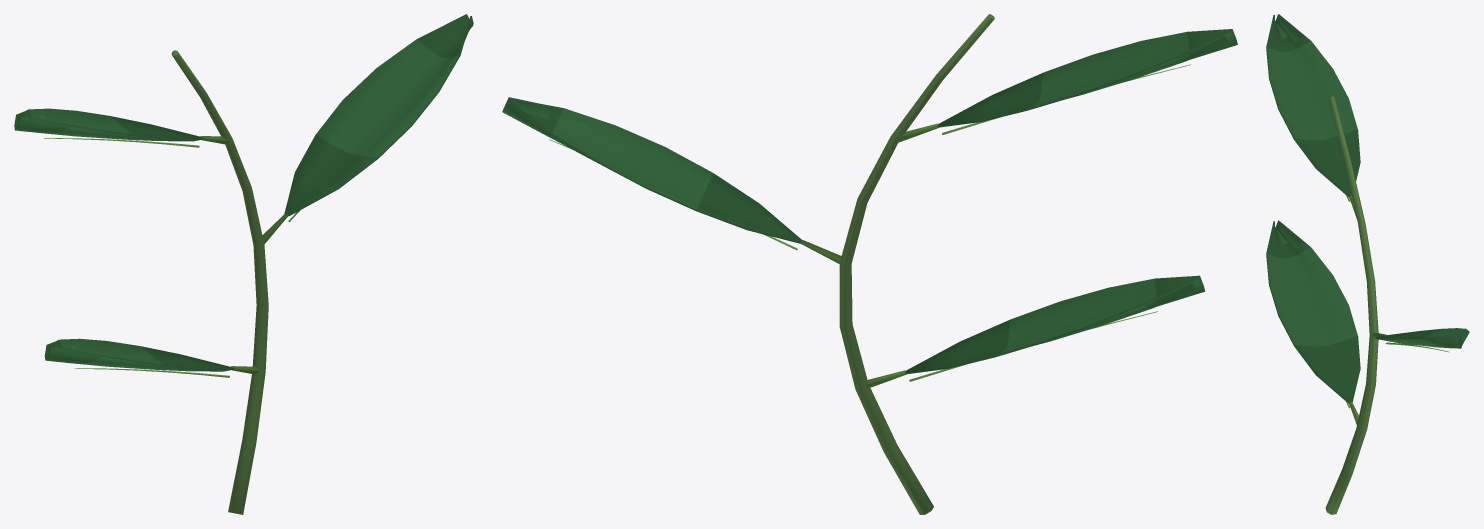
File: garden-tulip-bloom-stem-3.glb
3 renders of one model, left to right at view 1: azimuth 30°, elevation 25°; view 2: azimuth 150°, elevation 25°; view 3: azimuth 270°, elevation 25°, orthographic. The views are drawn at different scales.
Parts seen in each view (by area): view 1: tulip-bloom-stem-3; view 2: tulip-bloom-stem-3; view 3: tulip-bloom-stem-3.
Boxes of the visible parts, bbox=[...] form: tulip-bloom-stem-3: bbox=[14, 14, 473, 514]; tulip-bloom-stem-3: bbox=[502, 14, 1237, 514]; tulip-bloom-stem-3: bbox=[1266, 14, 1469, 514].
Size of the model in its own units: 0.5829 by 0.474 by 0.2198.
